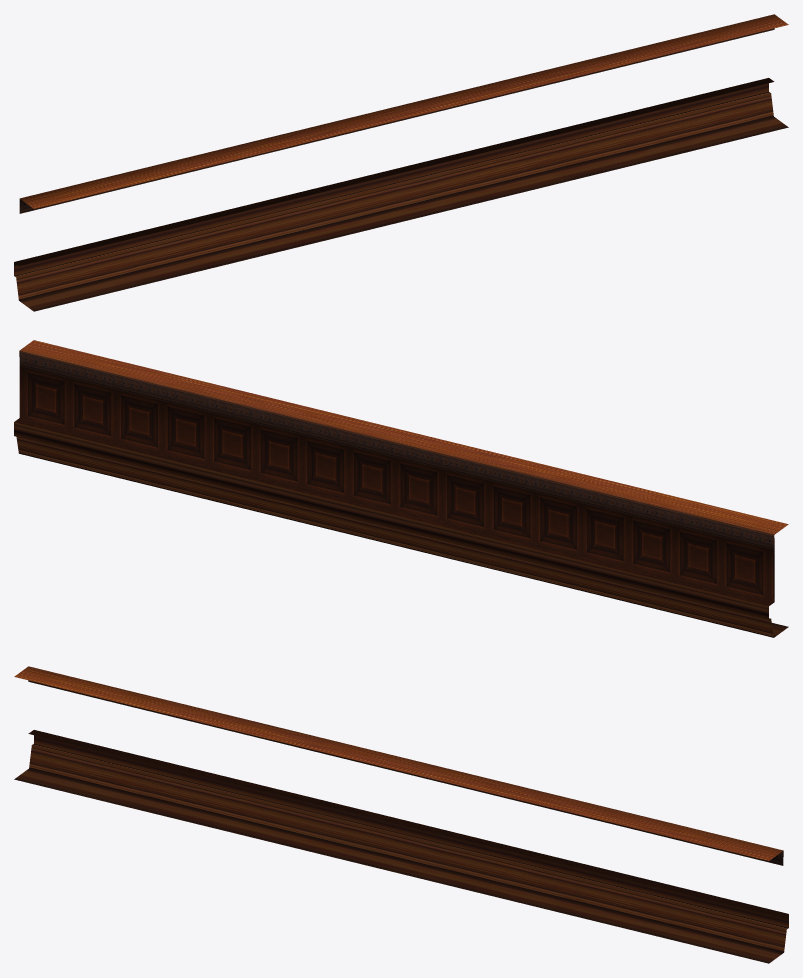
The model's file is UpperfloorC.fbx.
3 views of the same model, one above another, from view 1: azimuth 30°, elevation 25°; view 2: azimuth 150°, elevation 25°; view 3: azimuth 330°, elevation 25° (orthographic).
Parts seen in each view (by area): view 1: UpperStoryPieceC; view 2: UpperStoryPieceC; view 3: UpperStoryPieceC.
Part boxes in pixels (x1,y1,x2,y2): UpperStoryPieceC: (14,14,788,311); UpperStoryPieceC: (14,340,788,637); UpperStoryPieceC: (14,666,788,963).
Size of the model in its own units: 593 by 76.96 by 27.12.
